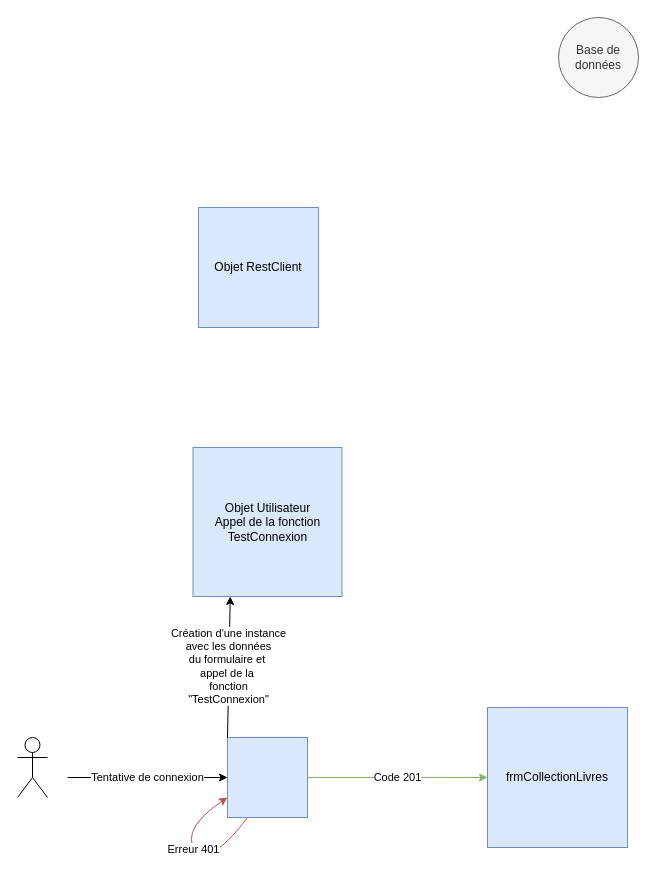
Some shapes in this 656 by 874 pixel diagram are drawn without their labels. The centre of each missing label's shape, as x and y in pixels:
Actor: (x=32, y=767)
frmConnexion: (x=267, y=777)
